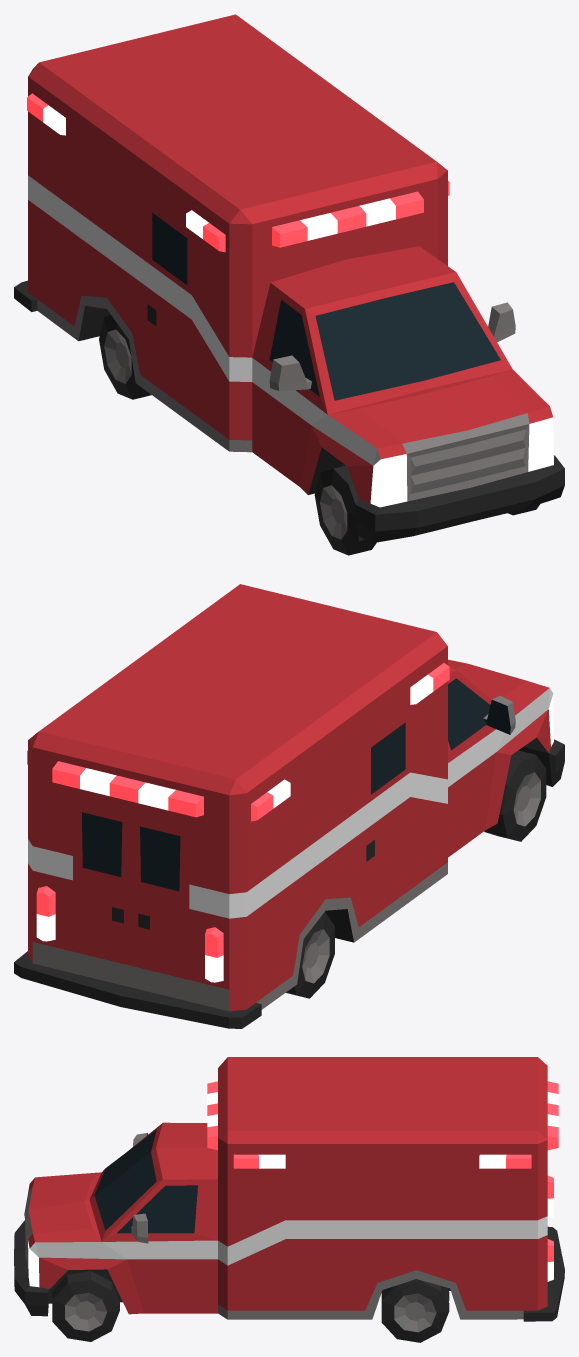
The model's file is car-firefighter-pickup.glb.
3 renders of one model, top to bottom at view 1: azimuth 30°, elevation 25°; view 2: azimuth 150°, elevation 25°; view 3: azimuth 270°, elevation 25°, orthographic. The views are drawn at different scales.
Parts seen in each view (by area): view 1: car-firefighter-pickup-base, car-firefighter-pickup-wheel_FR, car-firefighter-pickup-wheel_BR; view 2: car-firefighter-pickup-base, car-firefighter-pickup-wheel_FR, car-firefighter-pickup-wheel_BR; view 3: car-firefighter-pickup-base, car-firefighter-pickup-wheel_FL, car-firefighter-pickup-wheel_BL.
Part boxes in pixels (x1,y1,x2,y2): car-firefighter-pickup-base: (14,14,564,543); car-firefighter-pickup-wheel_FR: (314,465,376,555); car-firefighter-pickup-wheel_BR: (99,315,151,399); car-firefighter-pickup-base: (14,584,564,1028); car-firefighter-pickup-wheel_FR: (484,750,546,841); car-firefighter-pickup-wheel_BR: (286,912,334,998); car-firefighter-pickup-base: (14,1057,564,1321); car-firefighter-pickup-wheel_FL: (52,1271,119,1341); car-firefighter-pickup-wheel_BL: (381,1279,449,1342).
Bounding box in the file's own units: 2.43 × 2.66 × 6.24.
Materials: 1 (1 with a texture image).
